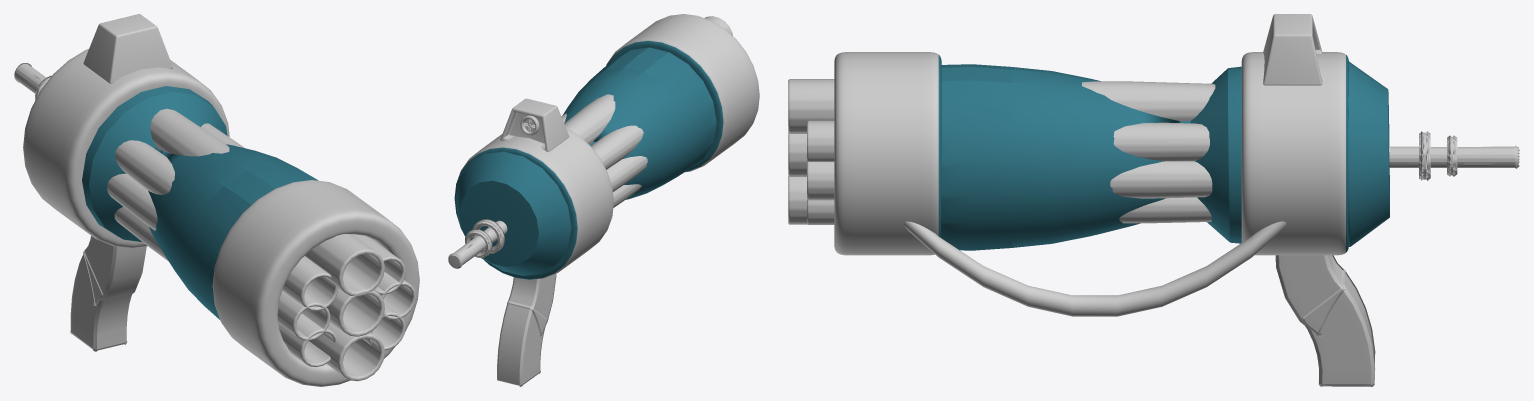
File: pistola.fbx
3 renders of one model, left to right at view 1: azimuth 30°, elevation 25°; view 2: azimuth 150°, elevation 25°; view 3: azimuth 270°, elevation 25°, orthographic. The views are drawn at different scales.
Visible parts, largest first — view 1: Box003; view 2: Box003; view 3: Box003.
Boxes of the visible parts, x1,y1,x2,y2 form: Box003: [14, 14, 419, 386]; Box003: [448, 14, 759, 386]; Box003: [788, 14, 1519, 386].
Bounding box in the file's own units: 167 × 298 × 554.
